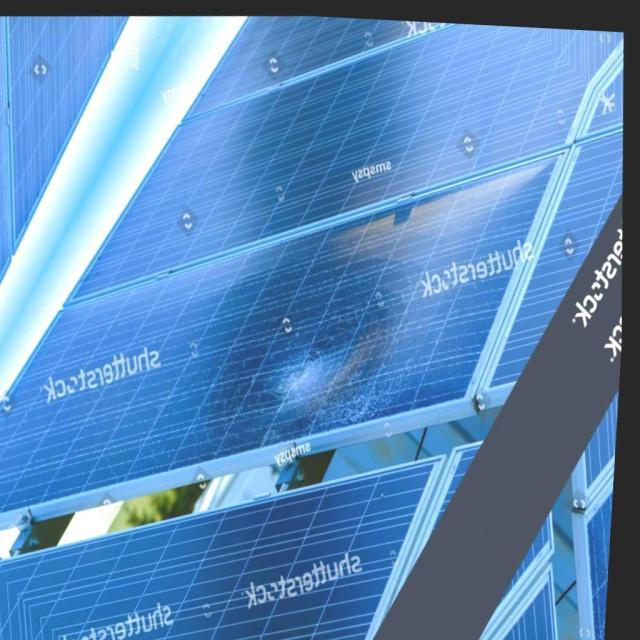cracked: (14, 169, 550, 495)
